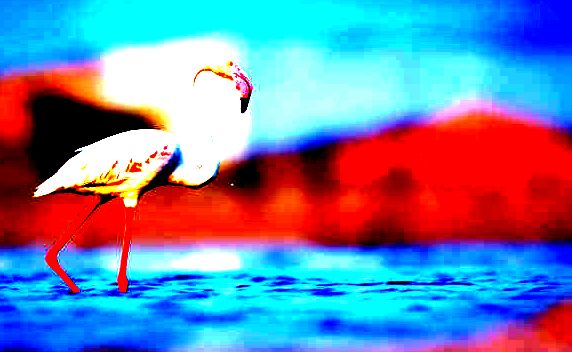Bird: (30, 56, 257, 297)
